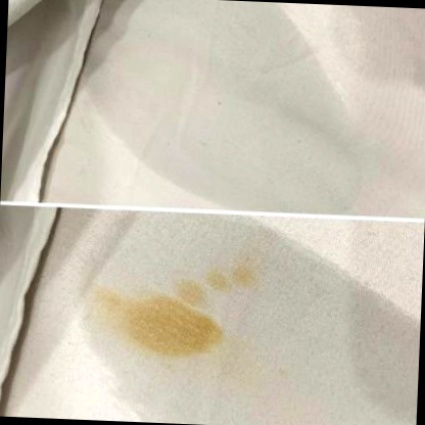coffee: (126, 306, 221, 353), (177, 283, 204, 302)
